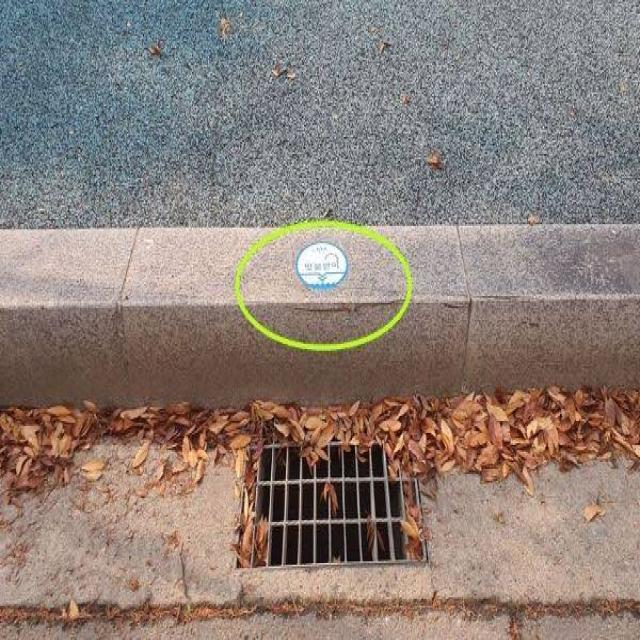drain_area: (256, 440, 407, 564)
drain_full: (235, 406, 424, 569)
